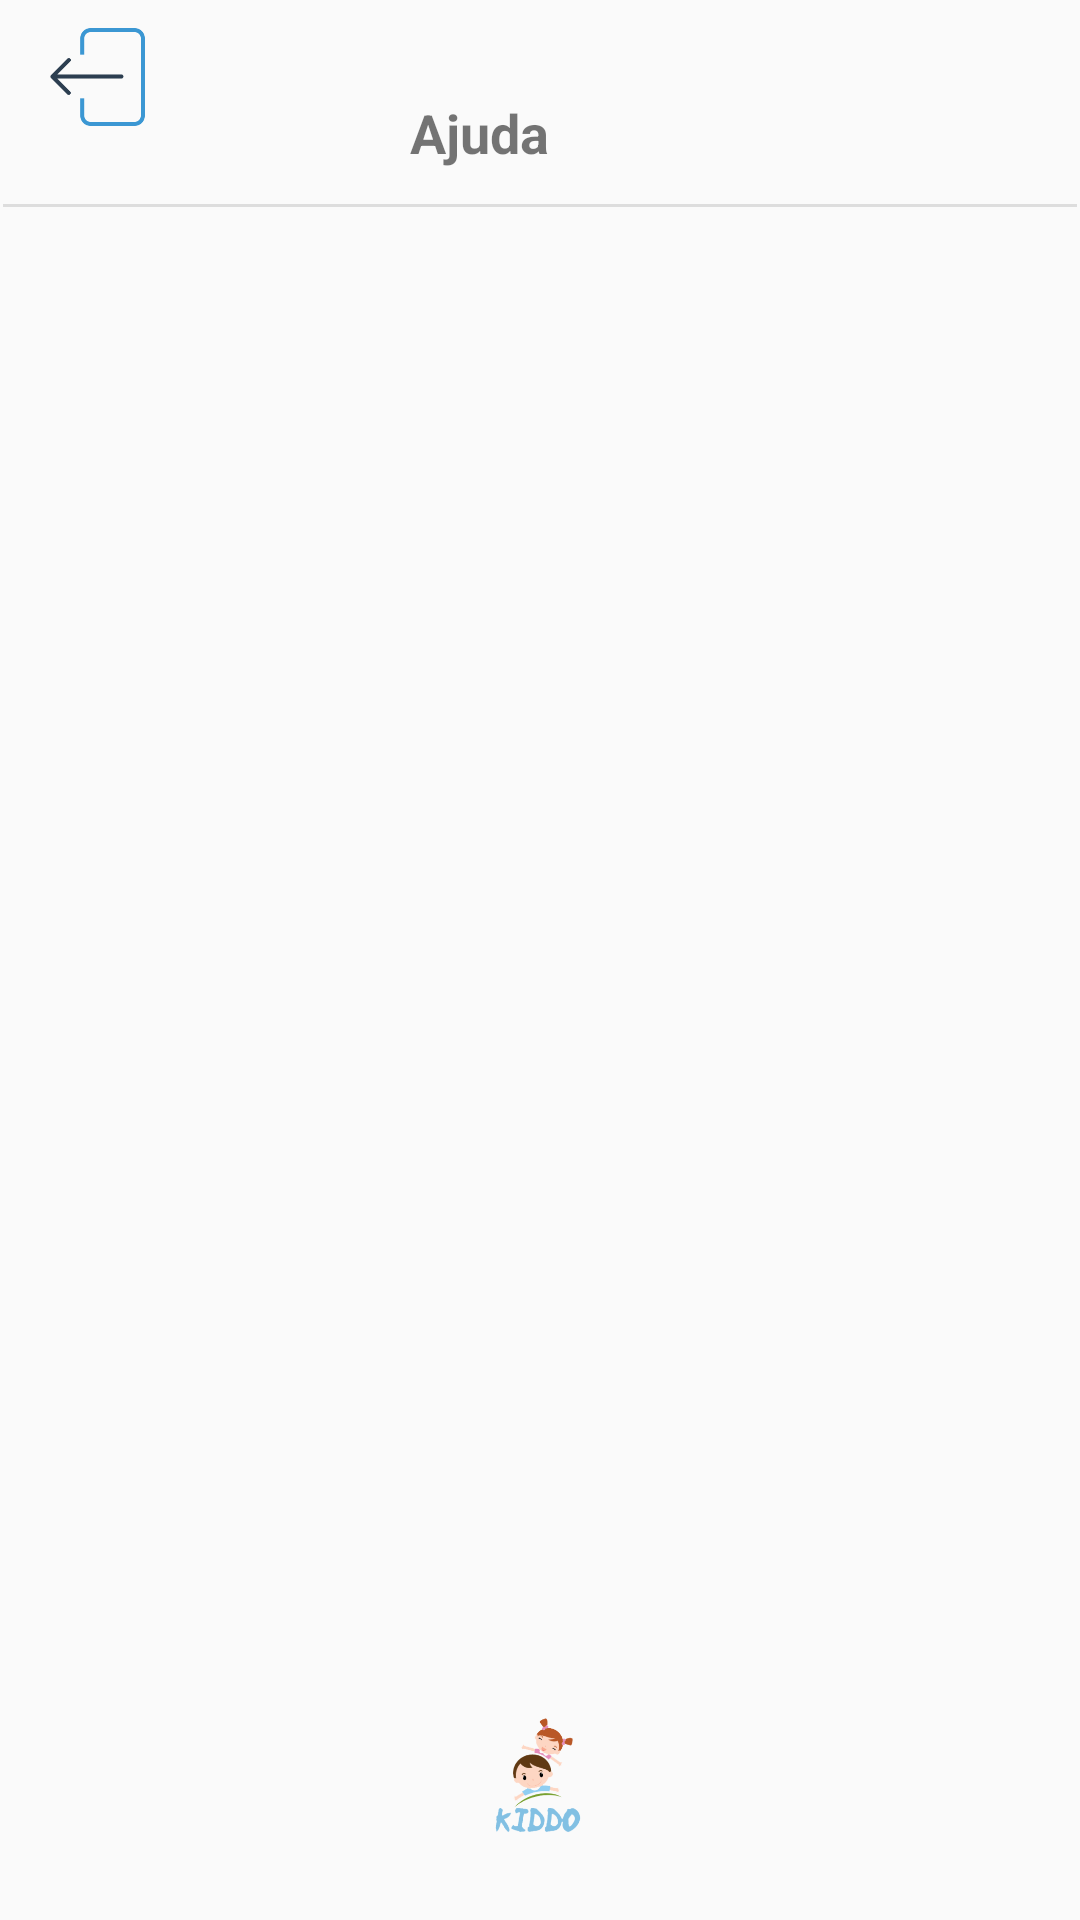

Named icons in this screenshot (1080*1920) and their bounding boxes, (x1, y1, x2, y2):
voltar: (50, 28, 145, 126)
